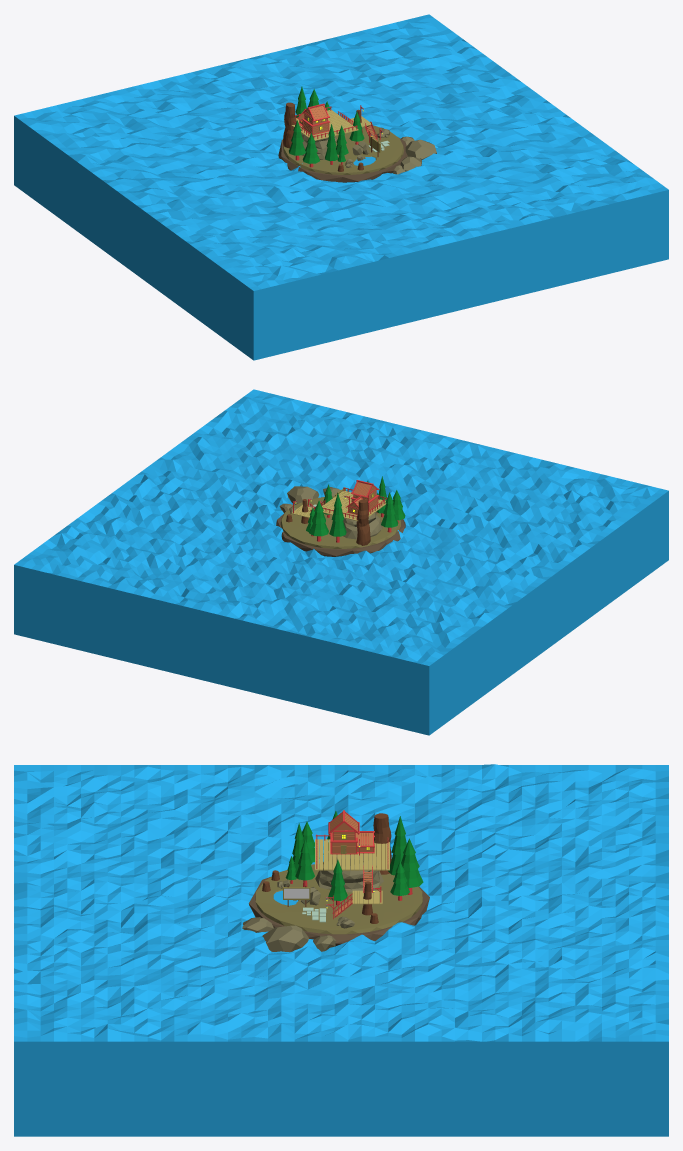
The picture shows the model from 3 angles, top to bottom: view 1: azimuth 30°, elevation 25°; view 2: azimuth 150°, elevation 25°; view 3: azimuth 270°, elevation 25°; orthographic projection. The views are drawn at different scales.
Visible parts, largest first — view 1: Cube.064, land1, land2, Cube.004; view 2: Cube.064, land1, land2, Cube.004, Cylinder.025; view 3: Cube.064, land1, Cube.004, land2, Cylinder.024, Icosphere.014, Cylinder.030, Cylinder.025, Cylinder.031.
Boxes of the visible parts, x1,y1,x2,y2 form: Cube.064: (14, 14, 668, 360); land1: (283, 125, 403, 174); land2: (278, 127, 407, 182); Cube.004: (291, 110, 358, 140); Cube.064: (14, 389, 668, 735); land1: (280, 495, 401, 548); land2: (276, 504, 405, 556); Cube.004: (322, 491, 386, 521); Cylinder.025: (356, 499, 370, 545); Cube.064: (14, 764, 668, 1136); land1: (255, 864, 422, 934); Cube.004: (315, 839, 389, 870); land2: (248, 876, 429, 946); Cylinder.024: (315, 850, 383, 892); Icosphere.014: (262, 925, 308, 952); Cylinder.030: (401, 838, 423, 894); Cylinder.025: (373, 813, 391, 874); Cylinder.031: (388, 816, 406, 875).
Size of the model in its own units: 614 by 176 by 614.
